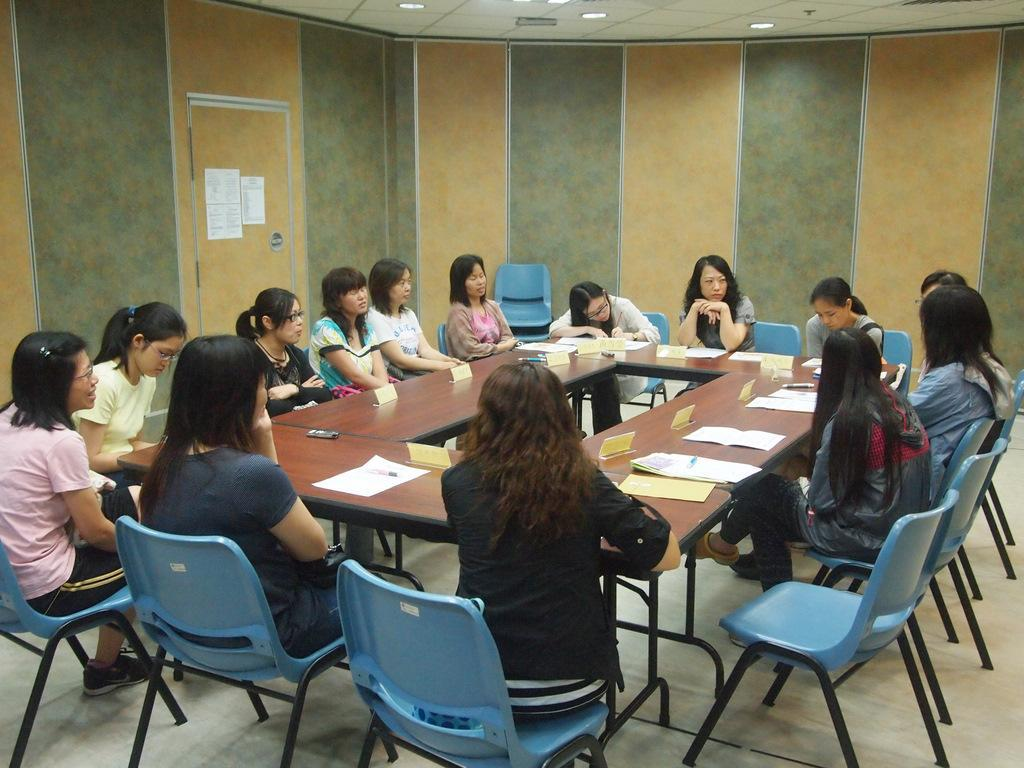face: (61, 357, 96, 408), (140, 340, 180, 378), (273, 302, 304, 343), (247, 377, 267, 428), (701, 266, 728, 301), (815, 302, 847, 330), (341, 285, 368, 313), (390, 272, 412, 304), (466, 268, 487, 295), (585, 301, 609, 321)
